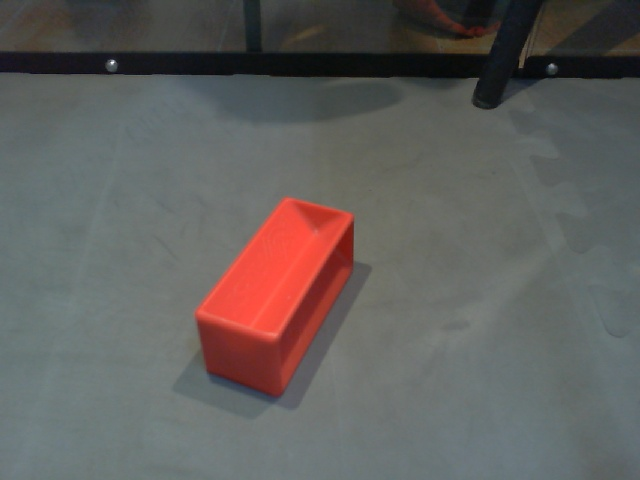RedSample: (192, 196, 356, 400)
